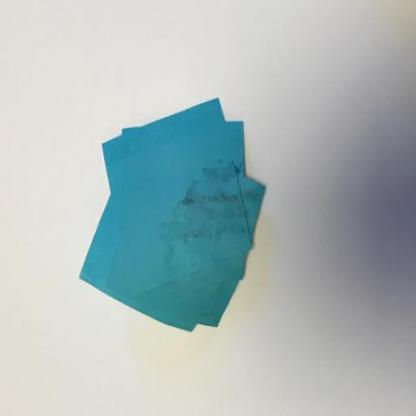trash: (79, 94, 266, 334)
